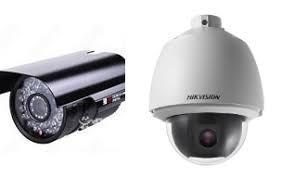maru: (143, 11, 268, 172)
tutu: (1, 40, 131, 149)
